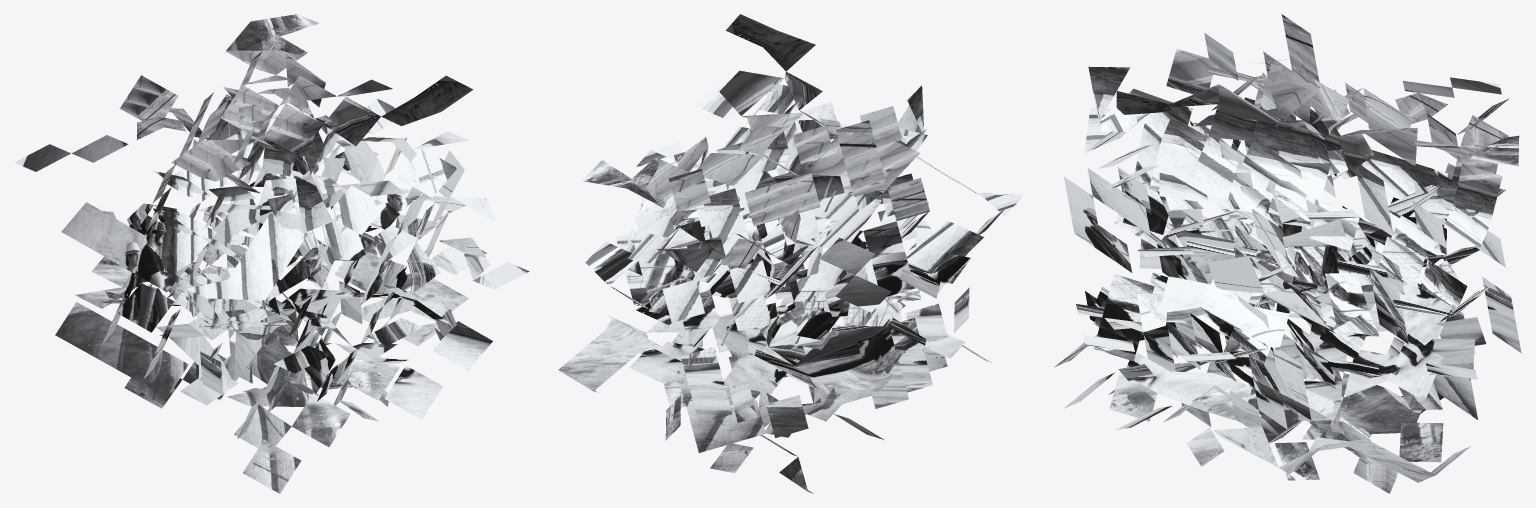
File: Abstração.glb
3 views of the same model, side by side, from view 1: azimuth 30°, elevation 25°; view 2: azimuth 150°, elevation 25°; view 3: azimuth 270°, elevation 25° (orthographic). The views are drawn at different scales.
Visible parts, largest first — view 1: Original; view 2: Original; view 3: Original.
Part boxes in pixels (x1,y1,x2,y2): Original: (14, 14, 529, 493); Original: (558, 14, 1024, 493); Original: (1054, 14, 1521, 493).
Size of the model in its own units: 2.97 by 2.78 by 2.77.
Materials: 1 (1 with a texture image).
